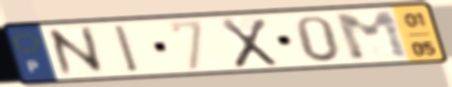0: (291, 14, 344, 63)
7: (167, 19, 209, 72)
I: (110, 23, 144, 75)
M: (330, 8, 415, 63)
N: (43, 24, 111, 79)
X: (218, 17, 281, 70)
